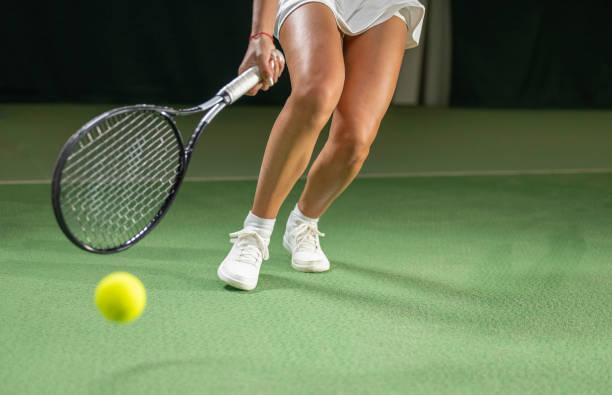ball_tennis: (95, 272, 147, 322)
